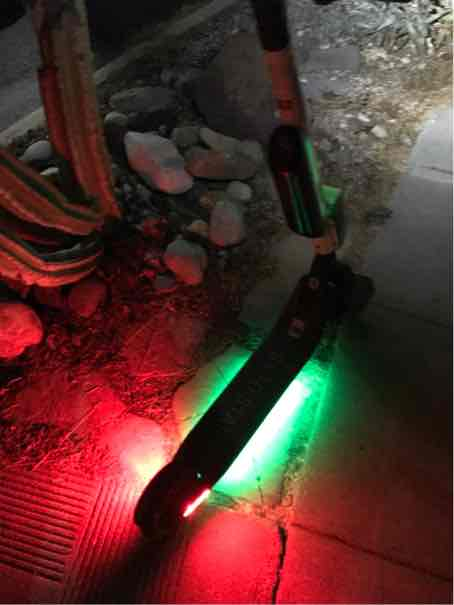scooter: (97, 2, 397, 543)
